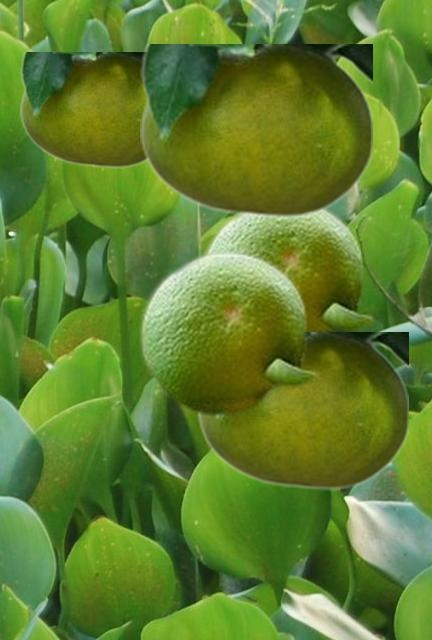dalandan: (140, 44, 371, 217), (198, 332, 407, 489), (137, 247, 320, 416), (202, 207, 376, 331), (20, 52, 146, 167)
